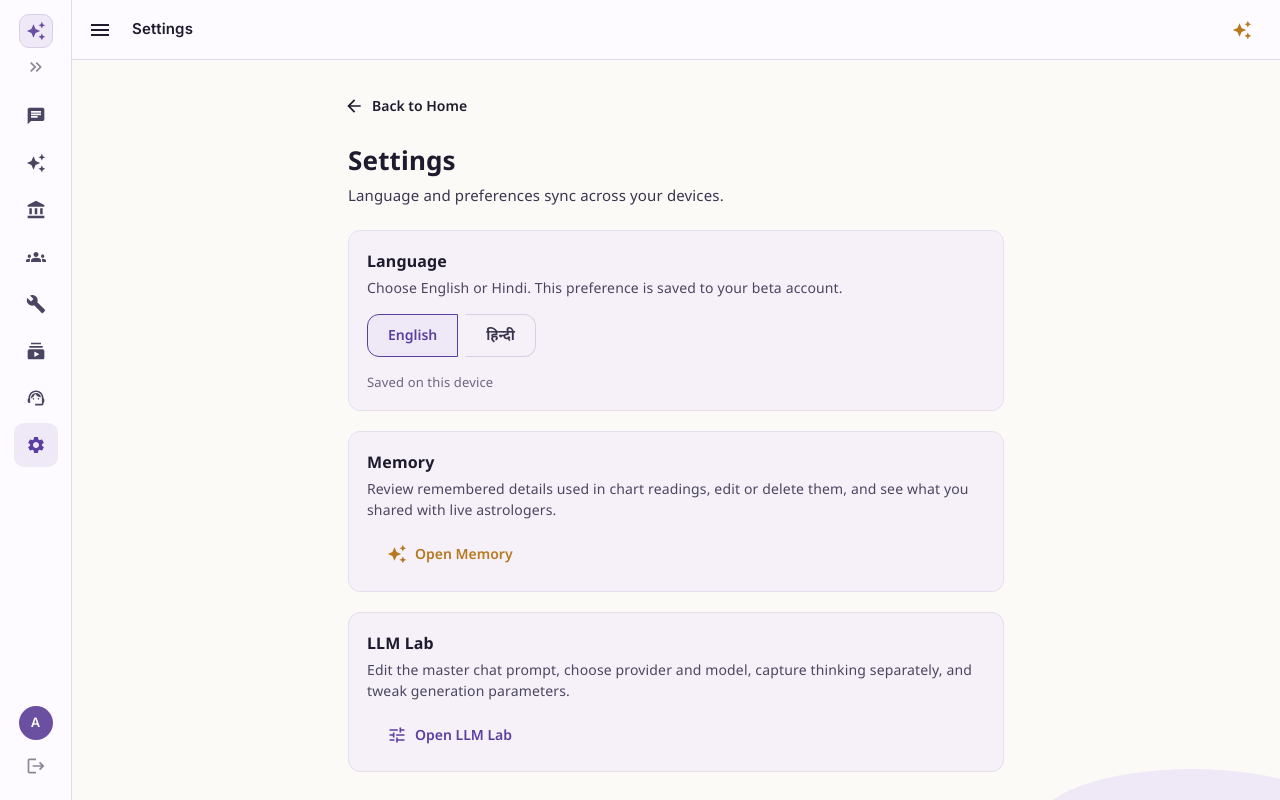
Scenario: settings also links to Memory
This screenshot has width=1280, height=800.
Click the button "Open Memory". click: (452, 554)
box: [367,536,537,572]
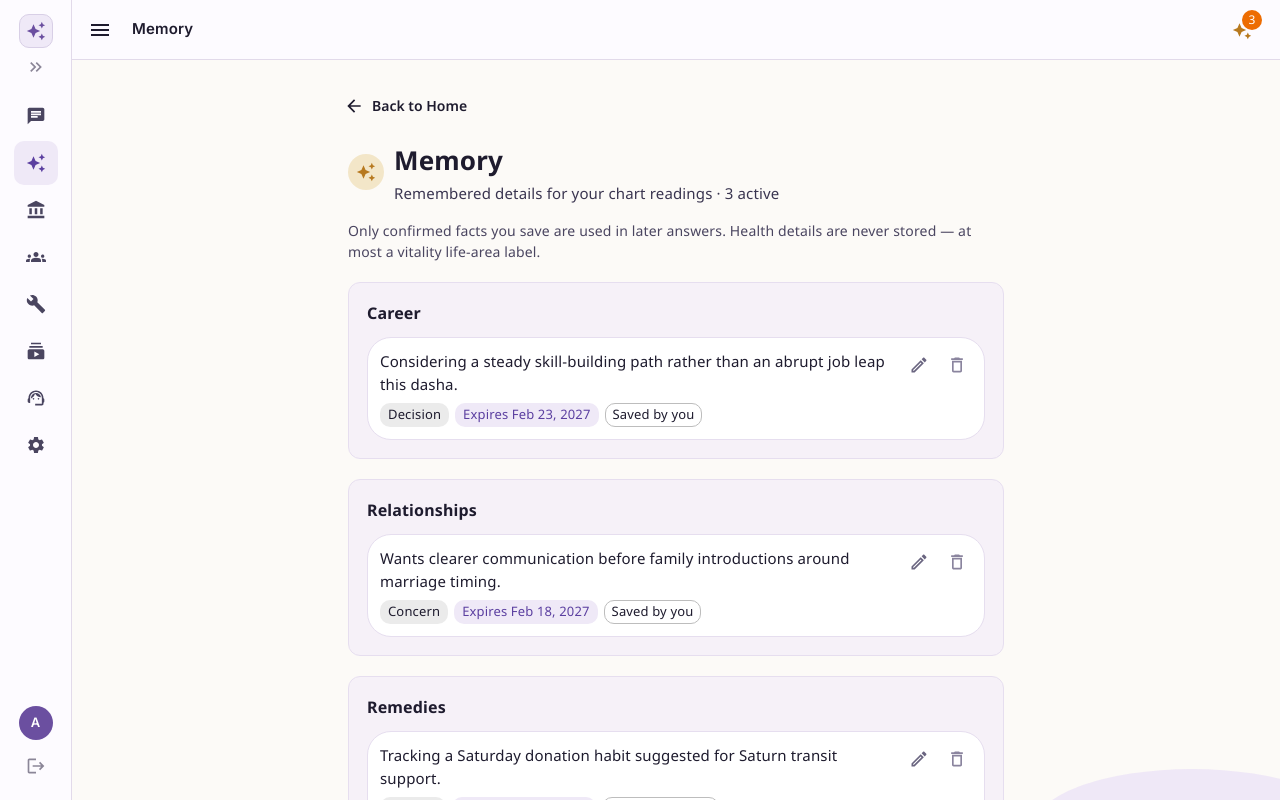
Now the heading "Memory" is shown, box [394,142,503,178]
